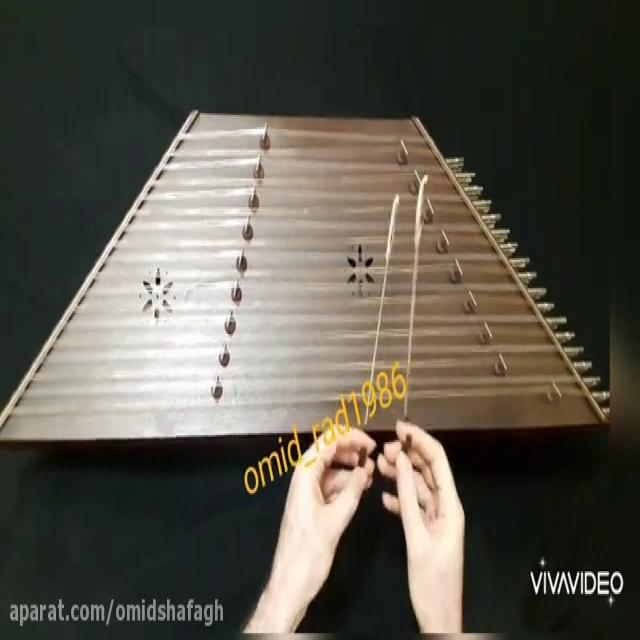Santur: (0, 92, 613, 473)
